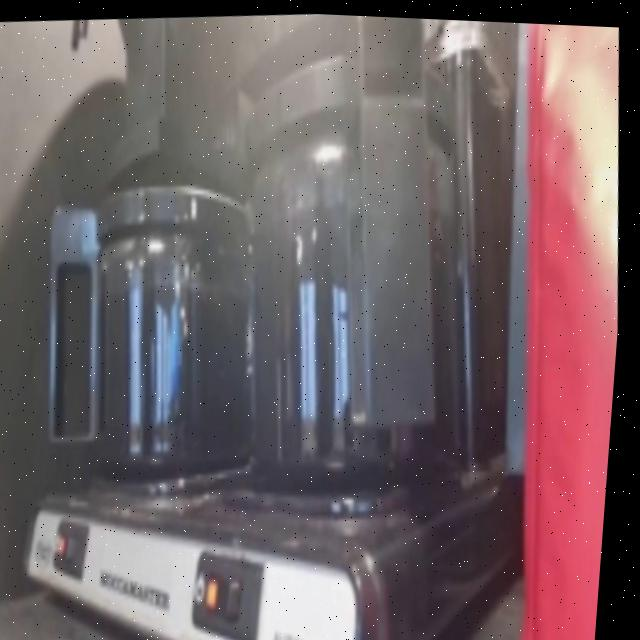coffee: (243, 161, 481, 484), (90, 240, 266, 468)
